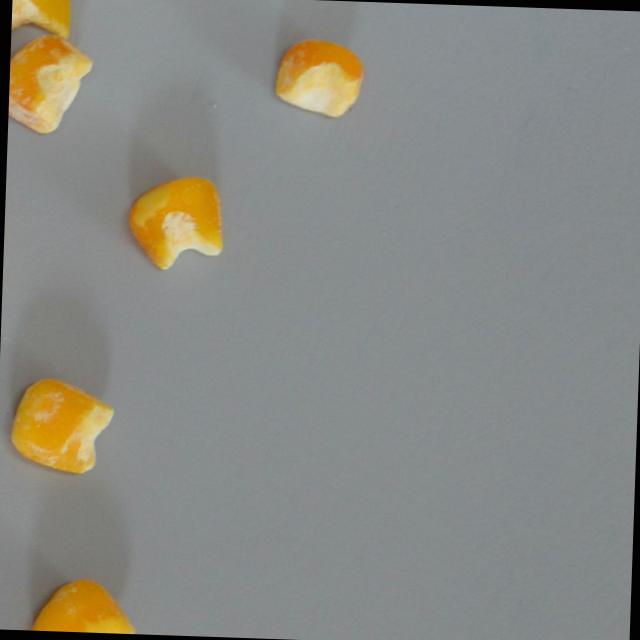no_canjicado: (123, 175, 227, 271), (29, 575, 136, 634)
pelicula: (7, 375, 116, 476), (6, 33, 94, 136), (271, 36, 363, 117), (9, 0, 72, 62)
